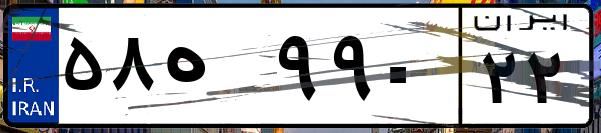0: (385, 28, 445, 110)
2: (475, 38, 525, 113), (525, 38, 570, 115)
5: (57, 26, 110, 100)
8: (110, 28, 158, 98)
9: (270, 28, 330, 110), (330, 28, 385, 110)
ه: (158, 20, 270, 120)
